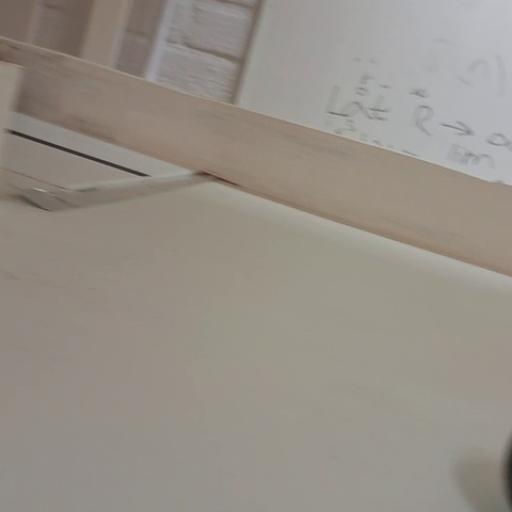dead: (501, 433, 512, 512)
